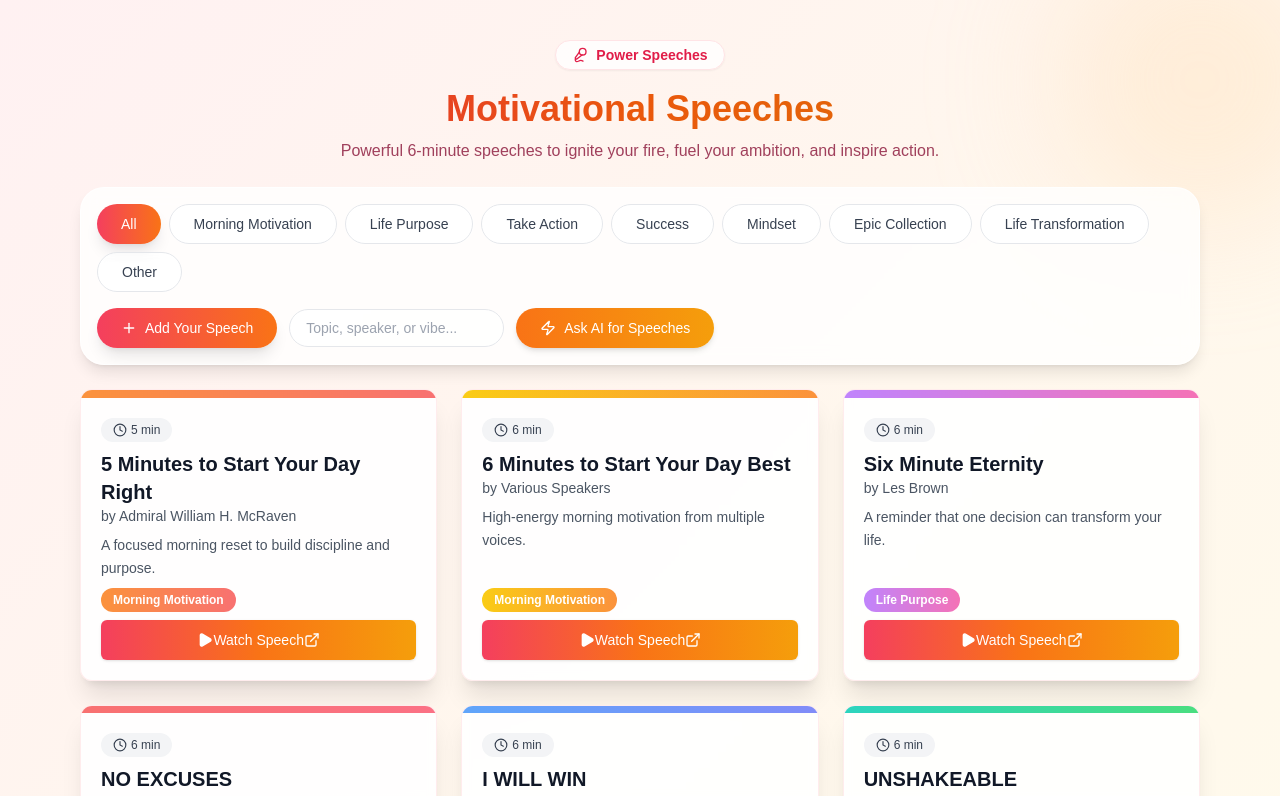
Test: AISpeechesPage › shows an empty state when no speeches match the category
The width and height of the screenshot is (1280, 796).
Click the button "Other".
click(140, 272)  # box [97,252,182,292]
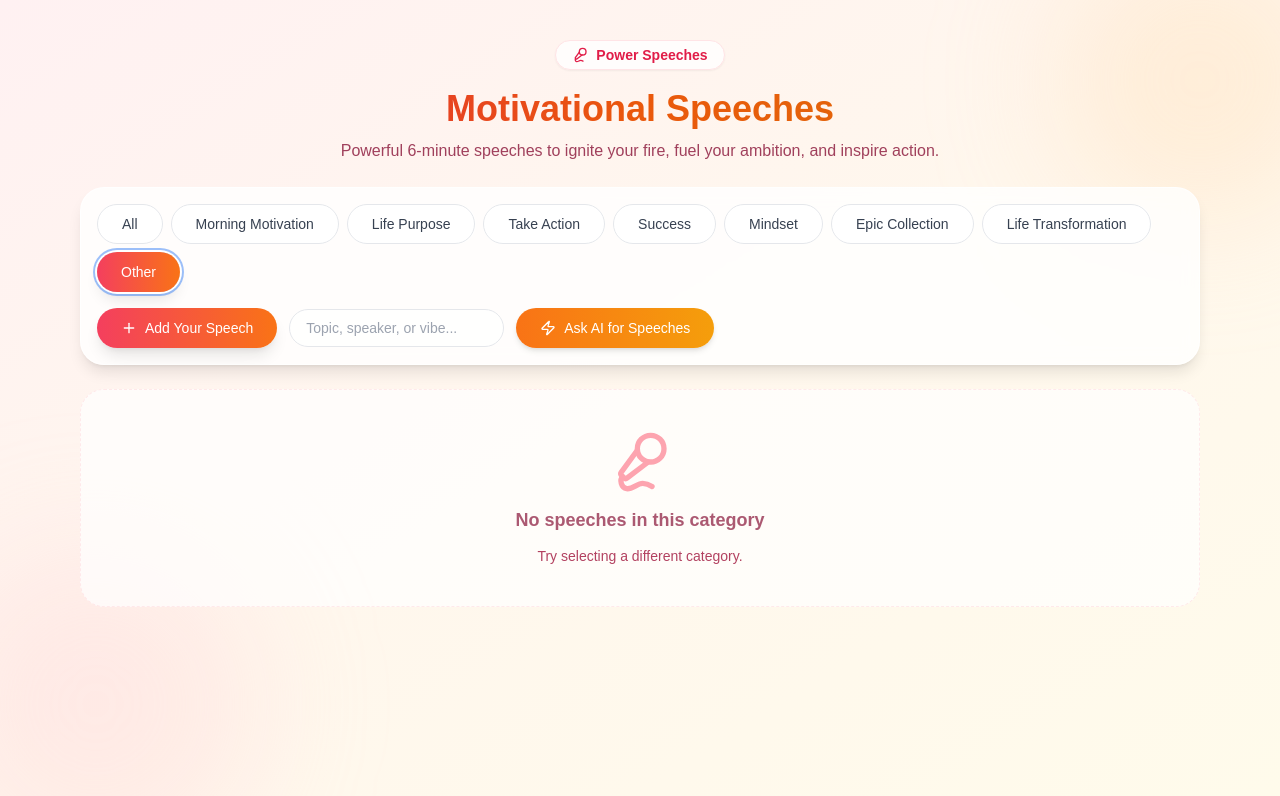
Result: the text "No speeches in this category" is shown at [516,506,765,534]
Result: the text "Try selecting a different category." is shown at [537,546,743,566]
